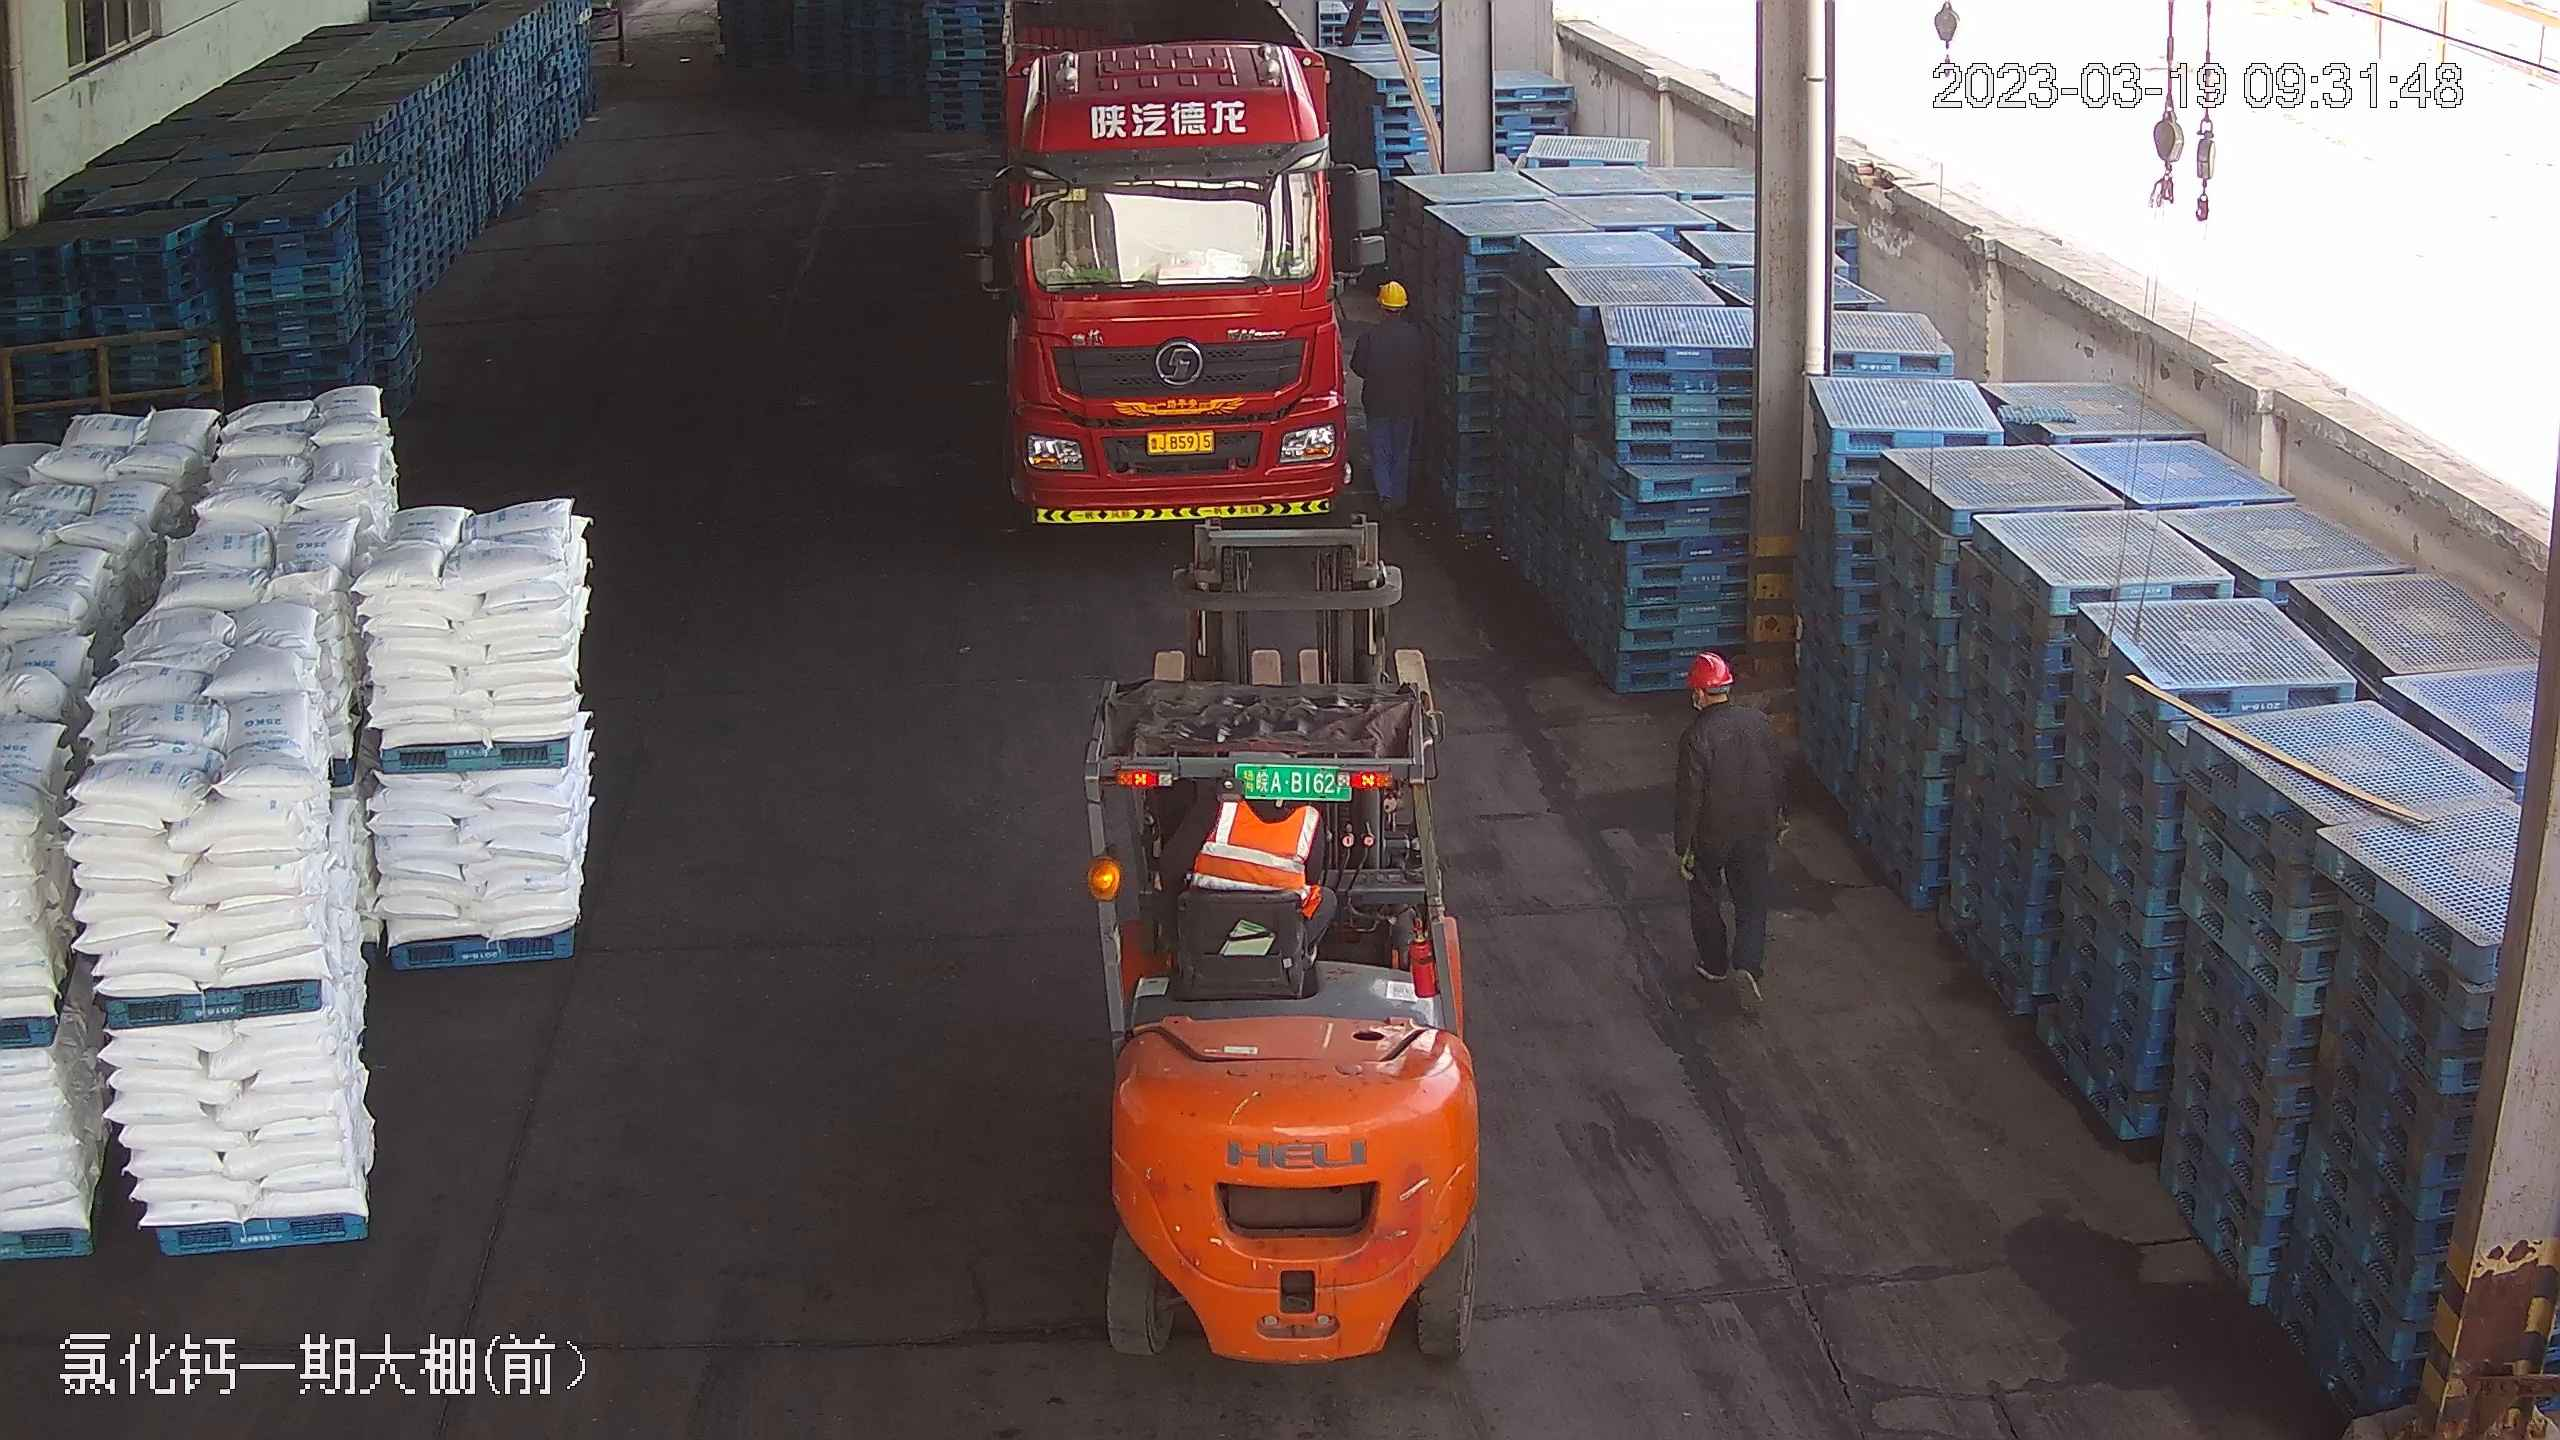head: (1677, 648, 1767, 750), (1360, 279, 1424, 355)
helmet: (1684, 649, 1733, 690), (1377, 279, 1411, 307)
people: (1667, 646, 1796, 1000), (1350, 274, 1433, 522)
truck: (974, 0, 1359, 524)
